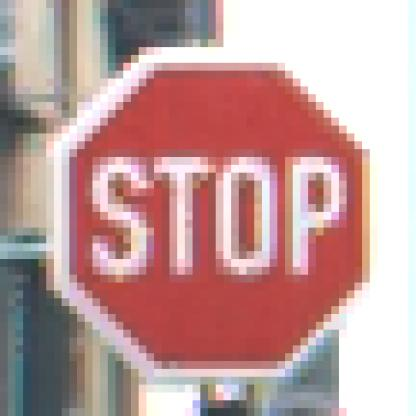Stop: (59, 57, 375, 377)
